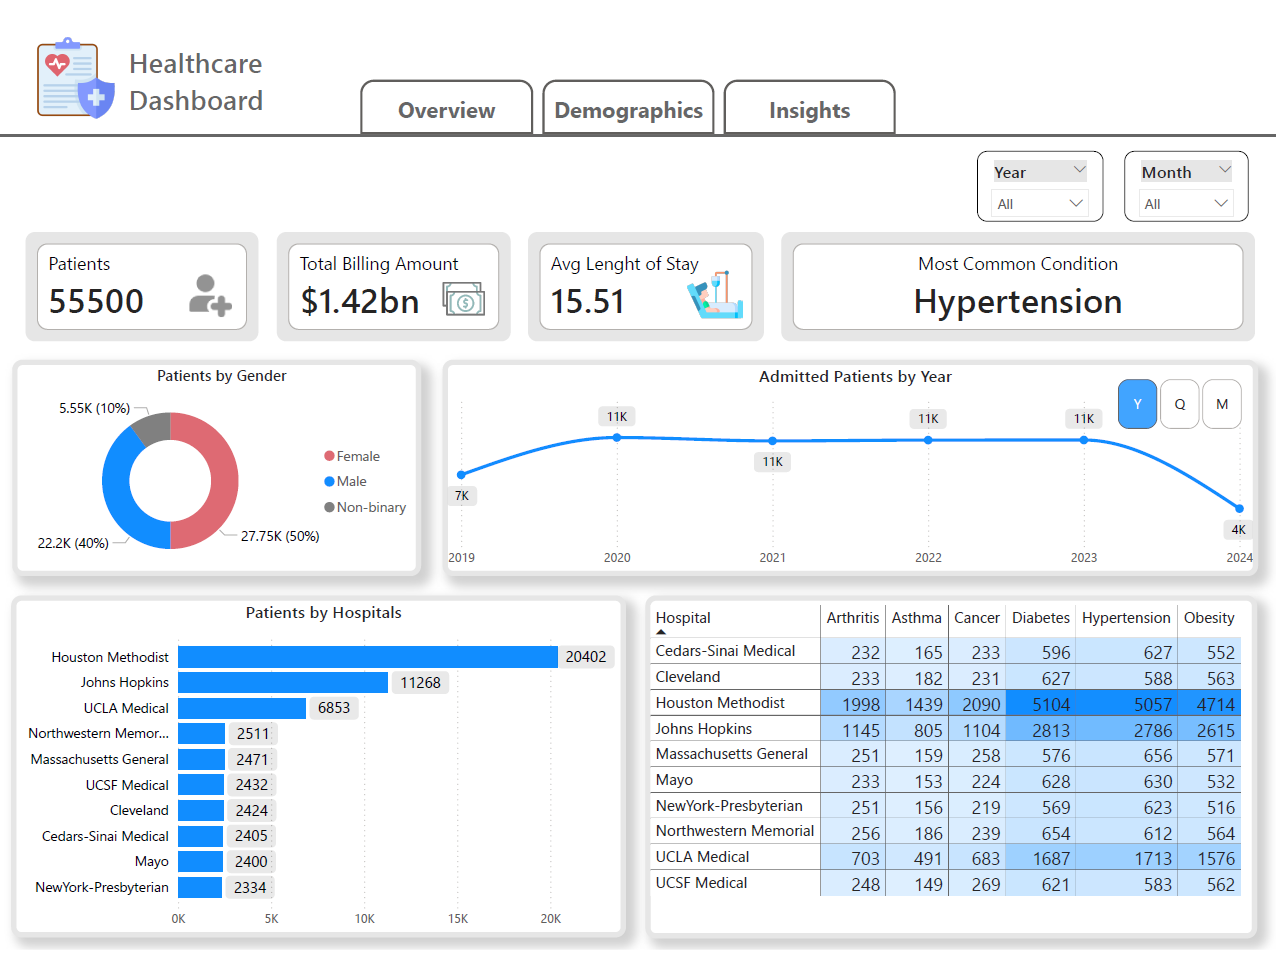

The page's visual inventory and layout, read from the dashboard file:
{"tool":"powerbi","page":{"name":"Overview","canvas":[1250,900],"ordinal":0},"visuals":[{"type":"cardVisual","fields":{"Data":["Measure.Patients"]},"box":[29.4,200.8,230,110.4],"z":0},{"type":"cardVisual","fields":{"Data":["Measure.Total Billing Amount"]},"box":[272.6,200.8,231.3,110.4],"z":1000},{"type":"cardVisual","fields":{"Data":["Measure.Avg Lenght of Stay"]},"box":[517,200.8,232.6,110.4],"z":2000},{"type":"cardVisual","fields":{"Data":["Measure.Most Common Condition"]},"box":[762.8,200.8,463.9,110.4],"z":3000},{"type":"slicer","fields":{"Values":["DimDate.Year"]},"box":[955.5,123.5,122.3,69.7],"z":4000},{"type":"donutChart","title":"Patients by Gender","fields":{"Category":["Dim Patient.Gender"],"Y":["CountNonNull(Dim Patient.Patient ID)"]},"box":[18,326.7,397.3,209.9],"z":5000},{"type":"slicer","fields":{"Values":["DimDate.Month"]},"box":[1097.7,123.5,120.9,69.7],"z":6000},{"type":"lineChart","fields":{"Category":["DimDate.Year"],"Y":["Measure.Patients"]},"box":[436.4,326.7,791.8,209.9],"z":7000},{"type":"advancedSlicerVisual","fields":{"Values":["Y/Q/M.Y/Q/M"]},"box":[1087.1,341.4,131.4,57.1],"z":8000},{"type":"clusteredBarChart","title":"Patients by Hospitals","fields":{"Y":["Measure.Patients"],"Category":["Dim Hospital.Hospital"]},"box":[17.1,555.9,596.7,332.5],"z":9000},{"type":"pivotTable","fields":{"Rows":["Dim Hospital.Hospital"],"Values":["Measure.Patients"],"Columns":["Dim Patient.Medical Condition"]},"box":[632.9,555.7,594.3,332.9],"z":10000},{"type":"textbox","box":[126.2,14.5,230,98.6],"z":11000},{"type":"image","box":[31.5,14.5,94.6,78.9],"z":12000},{"type":"shape","box":[0,94.6,1249.9,28.9],"z":13000},{"type":"actionButton","box":[356.5,54.9,167.7,53.5],"z":14000},{"type":"actionButton","box":[532.6,54.9,167.7,53.5],"z":15000},{"type":"actionButton","box":[708.7,54.9,167.7,53.5],"z":16000},{"type":"image","box":[435.7,235.7,41.4,62.9],"z":17000},{"type":"image","box":[674.3,235.7,52.9,54.3],"z":18000},{"type":"image","box":[190,240,41.4,51.4],"z":19000}]}

Visuals, with their boxes on the page's 1250x900 design canvas (x1, y1, x2, y2). These are canvas units, not pixel positions in the 1276x965 screenshot, which may show the page scaled, cropped or inside an application window:
cardVisual - Measure.Patients: bbox=(29, 201, 259, 311)
cardVisual - Measure.Total Billing Amount: bbox=(273, 201, 504, 311)
cardVisual - Measure.Avg Lenght of Stay: bbox=(517, 201, 750, 311)
cardVisual - Measure.Most Common Condition: bbox=(763, 201, 1227, 311)
slicer - DimDate.Year: bbox=(956, 124, 1078, 193)
"Patients by Gender" donutChart: bbox=(18, 327, 415, 537)
slicer - DimDate.Month: bbox=(1098, 124, 1219, 193)
lineChart - DimDate.Year x Measure.Patients: bbox=(436, 327, 1228, 537)
advancedSlicerVisual - Y/Q/M.Y/Q/M: bbox=(1087, 341, 1218, 398)
"Patients by Hospitals" clusteredBarChart: bbox=(17, 556, 614, 888)
pivotTable - Dim Hospital.Hospital x Measure.Patients: bbox=(633, 556, 1227, 889)
textbox: bbox=(126, 14, 356, 113)
image: bbox=(32, 14, 126, 93)
shape: bbox=(0, 95, 1250, 124)
actionButton: bbox=(356, 55, 524, 108)
actionButton: bbox=(533, 55, 700, 108)
actionButton: bbox=(709, 55, 876, 108)
image: bbox=(436, 236, 477, 299)
image: bbox=(674, 236, 727, 290)
image: bbox=(190, 240, 231, 291)
